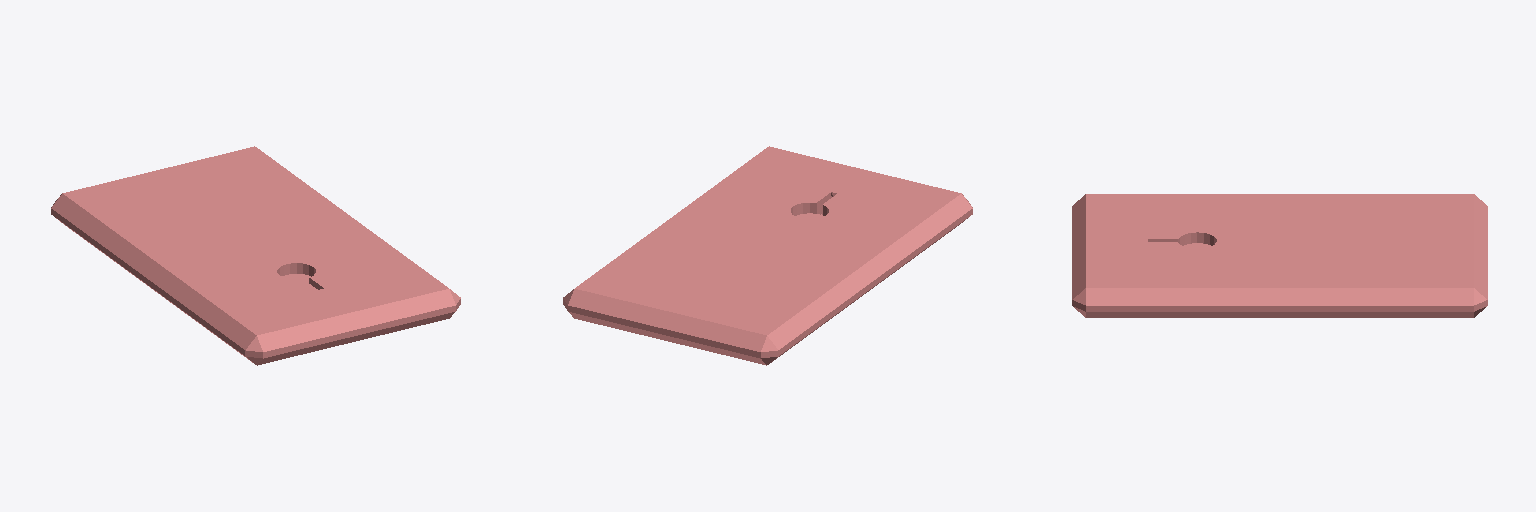
File: LockMec.obj
3 renders of one model, left to right at view 1: azimuth 30°, elevation 25°; view 2: azimuth 150°, elevation 25°; view 3: azimuth 270°, elevation 25°, orthographic.
Visible parts, largest first — view 1: Cylinder002; view 2: Cylinder002; view 3: Cylinder002.
Boxes of the visible parts, box(x1,y1,x2,y2) form: Cylinder002: box(51, 146, 460, 365); Cylinder002: box(563, 146, 972, 365); Cylinder002: box(1072, 194, 1487, 317).
Size of the model in its own units: 150 by 20 by 250.